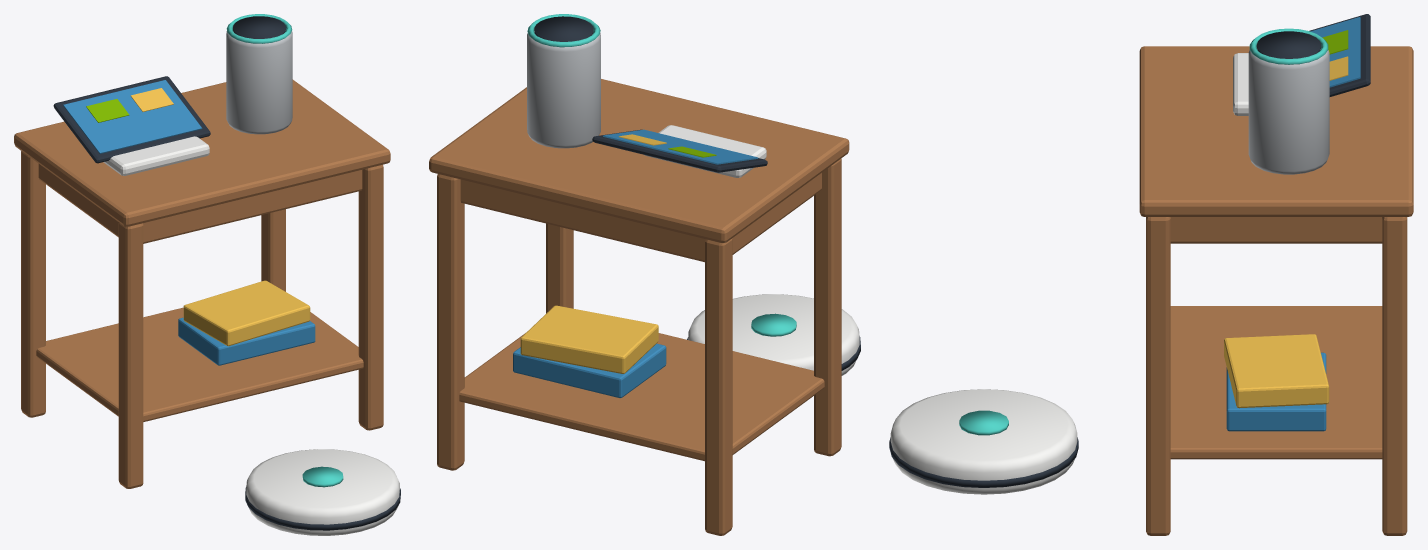
File: smartHub.glb
The picture shows the model from 3 angles, left to right: view 1: azimuth 30°, elevation 25°; view 2: azimuth 150°, elevation 25°; view 3: azimuth 270°, elevation 25°; orthographic projection. The views are drawn at different scales.
Parts seen in each view (by area): view 1: body, tablet; view 2: body, tablet; view 3: body, tablet.
Part boxes in pixels (<box>): body: <box>14,14,400,535</box>; tablet: <box>53,76,210,163</box>; body: <box>429,14,860,535</box>; tablet: <box>592,129,767,172</box>; body: <box>889,28,1413,535</box>; tablet: <box>1309,14,1370,96</box>.
Bounding box in the file's own units: 0.6 × 0.806 × 0.842.
